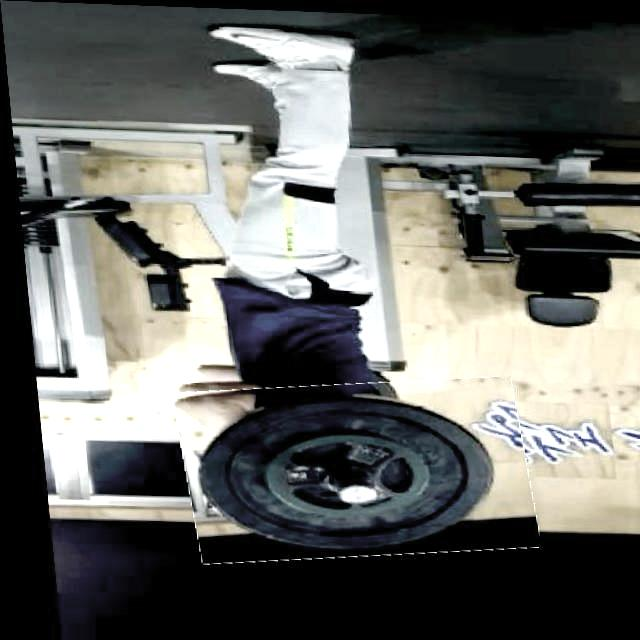barbell: (166, 370, 530, 565)
